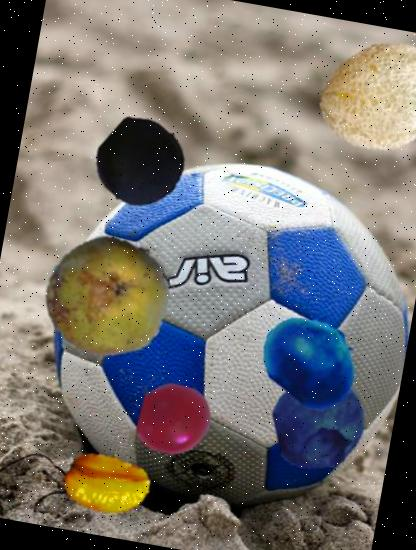Cantaloupe: (308, 21, 416, 170)
Carambula: (55, 432, 158, 534)
Grape: (90, 112, 191, 212)
Huckleberry: (253, 301, 370, 418), (264, 368, 374, 477)
Pear: (36, 224, 181, 369)
Redcurrant: (132, 378, 215, 460)
